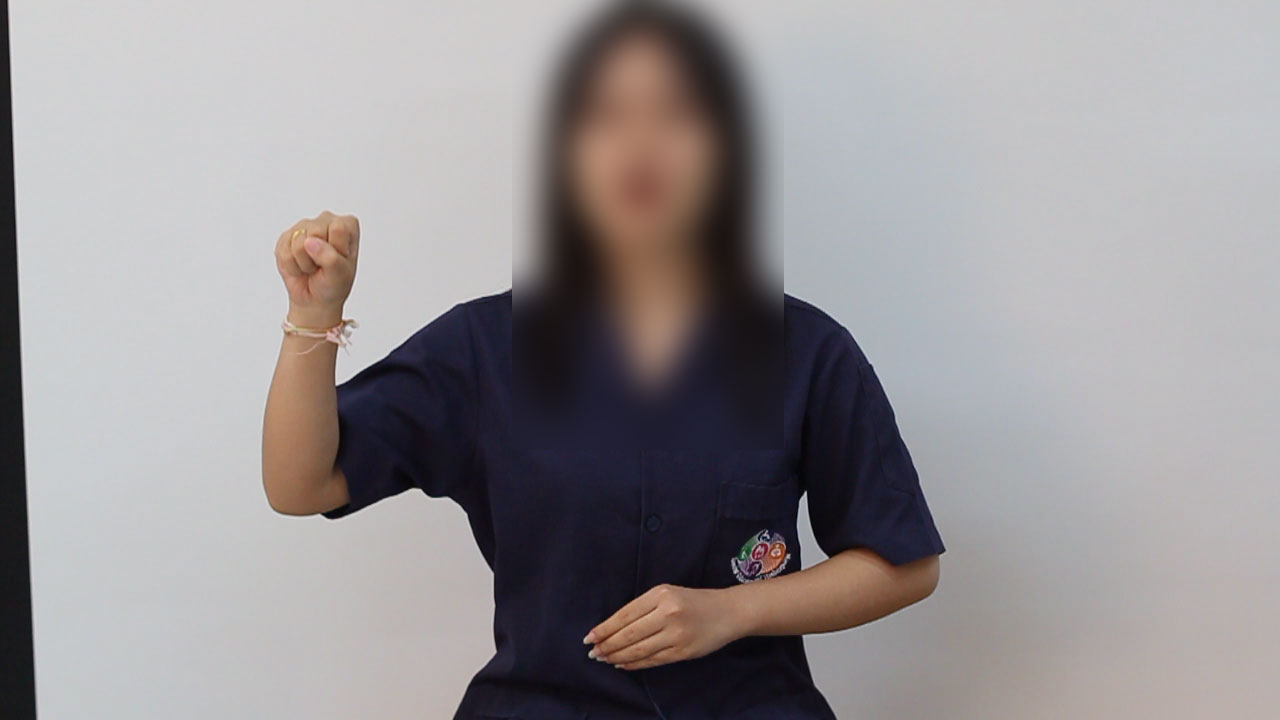sor: (259, 197, 379, 344)
